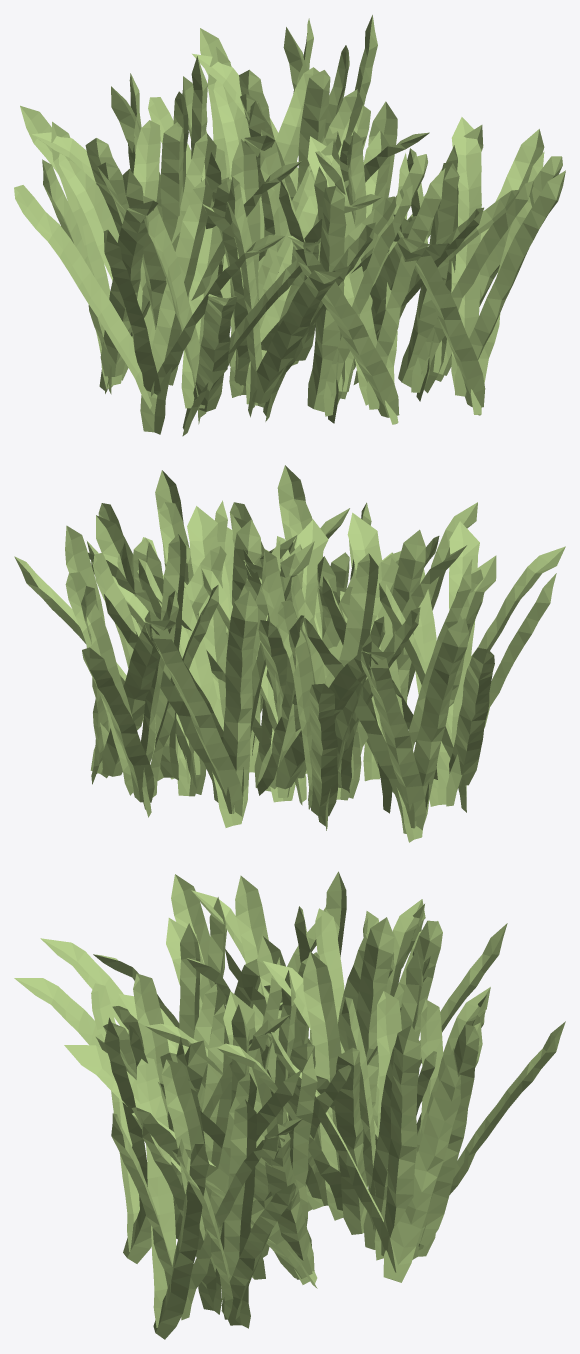
Rendered from Seaweed.fbx.
3 views of the same model, one above another, from view 1: azimuth 30°, elevation 25°; view 2: azimuth 150°, elevation 25°; view 3: azimuth 270°, elevation 25° (orthographic). The views are drawn at different scales.
Visible parts, largest first — view 1: model:mesh1575661703, model:mesh2088647717, model:mesh741171459, model:mesh194216081, model:mesh401278197, model:mesh1132364987, model:mesh213698898, model:mesh1737469225, model:mesh1611654465, model:mesh2100615267, model:mesh1467600357, model:mesh359057668 (+68 smaller); view 2: model:mesh1759558392, model:mesh791817952, model:mesh2047756897, model:mesh1909069237, model:mesh2088647717, model:mesh360055416, model:mesh219816025, model:mesh1249645463, model:mesh1565199495, model:mesh447376650, model:mesh1429283676, model:mesh685171151 (+58 smaller); view 3: model:mesh197688976, model:mesh535239764, model:mesh2103284187, model:mesh1737469225, model:mesh1214210097, model:mesh286167206, model:mesh1221432941, model:mesh447376650, model:mesh970499413, model:mesh384617995, model:mesh1611654465, model:mesh219816025 (+54 smaller).
Boxes of the visible parts, x1=… form: model:mesh1575661703: x1=140, y1=179, x2=212, y2=434; model:mesh2088647717: x1=14, y1=185, x2=151, y2=408; model:mesh741171459: x1=307, y1=186, x2=346, y2=412; model:mesh194216081: x1=455, y1=170, x2=565, y2=396; model:mesh401278197: x1=451, y1=117, x2=481, y2=390; model:mesh1132364987: x1=250, y1=270, x2=345, y2=403; model:mesh213698898: x1=295, y1=249, x2=399, y2=417; model:mesh1737469225: x1=393, y1=214, x2=485, y2=407; model:mesh1611654465: x1=398, y1=162, x2=459, y2=387; model:mesh2100615267: x1=193, y1=294, x2=238, y2=411; model:mesh1467600357: x1=366, y1=168, x2=445, y2=409; model:mesh359057668: x1=100, y1=200, x2=158, y2=376; model:mesh1759558392: x1=223, y1=590, x2=257, y2=820; model:mesh791817952: x1=401, y1=618, x2=469, y2=833; model:mesh2047756897: x1=362, y1=641, x2=426, y2=830; model:mesh1909069237: x1=144, y1=610, x2=242, y2=816; model:mesh2088647717: x1=449, y1=647, x2=494, y2=785; model:mesh360055416: x1=309, y1=683, x2=337, y2=816; model:mesh219816025: x1=82, y1=647, x2=154, y2=802; model:mesh1249645463: x1=338, y1=553, x2=378, y2=790; model:mesh1565199495: x1=102, y1=620, x2=175, y2=776; model:mesh447376650: x1=65, y1=572, x2=133, y2=795; model:mesh1429283676: x1=187, y1=506, x2=227, y2=719; model:mesh685171151: x1=155, y1=534, x2=186, y2=780; model:mesh197688976: x1=383, y1=1022, x2=482, y2=1282; model:mesh535239764: x1=381, y1=1025, x2=420, y2=1256; model:mesh2103284187: x1=303, y1=951, x2=343, y2=1220; model:mesh1737469225: x1=136, y1=1057, x2=176, y2=1327; model:mesh1214210097: x1=222, y1=1099, x2=256, y2=1328; model:mesh286167206: x1=153, y1=1144, x2=209, y2=1339; model:mesh1221432941: x1=334, y1=1047, x2=366, y2=1234; model:mesh447376650: x1=417, y1=1024, x2=479, y2=1246; model:mesh970499413: x1=356, y1=917, x2=394, y2=1107; model:mesh384617995: x1=264, y1=1123, x2=314, y2=1279; model:mesh1611654465: x1=161, y1=1059, x2=211, y2=1240; model:mesh219816025: x1=418, y1=1021, x2=565, y2=1250.
Size of the model in its own units: 3.66 by 2.25 by 3.37.
